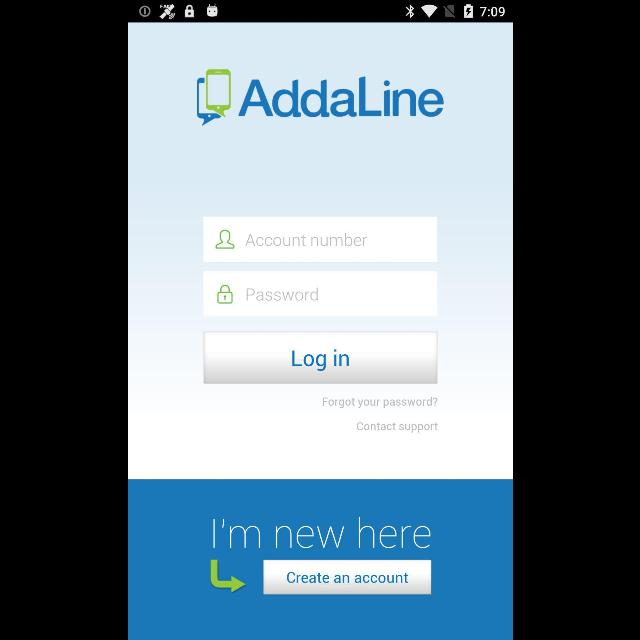icon: (210, 559, 246, 593), (214, 230, 233, 248), (216, 284, 232, 304)
image: (196, 70, 230, 126)
input: (202, 271, 438, 317), (202, 217, 436, 263)
text: (237, 76, 443, 118), (212, 516, 430, 548), (245, 234, 367, 246), (322, 398, 436, 408), (246, 288, 316, 300), (357, 422, 438, 432)
textbutton: (203, 332, 437, 384), (263, 560, 431, 594)
uppertaskbar: (128, 1, 512, 23)
